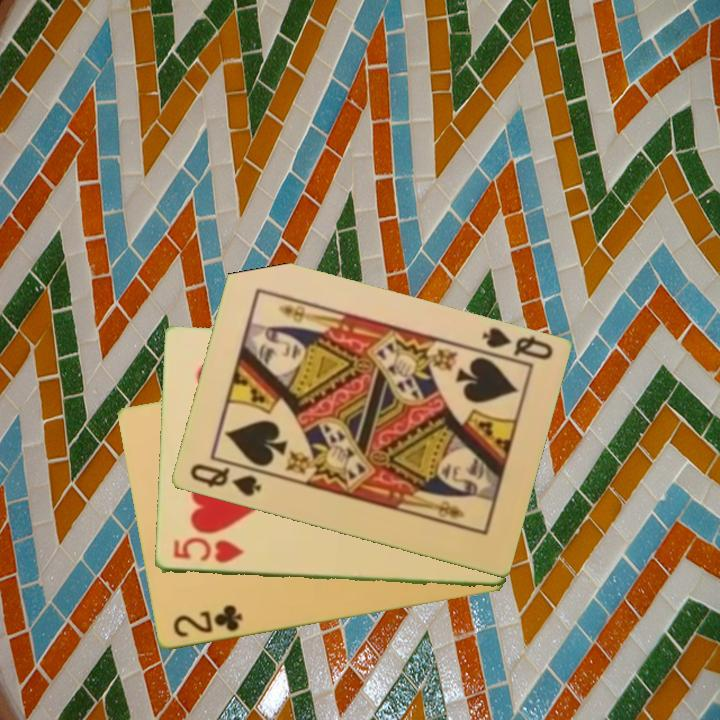2c: (169, 601, 245, 641)
5h: (169, 536, 246, 567)
Qs: (186, 460, 264, 500), (477, 324, 555, 363)
